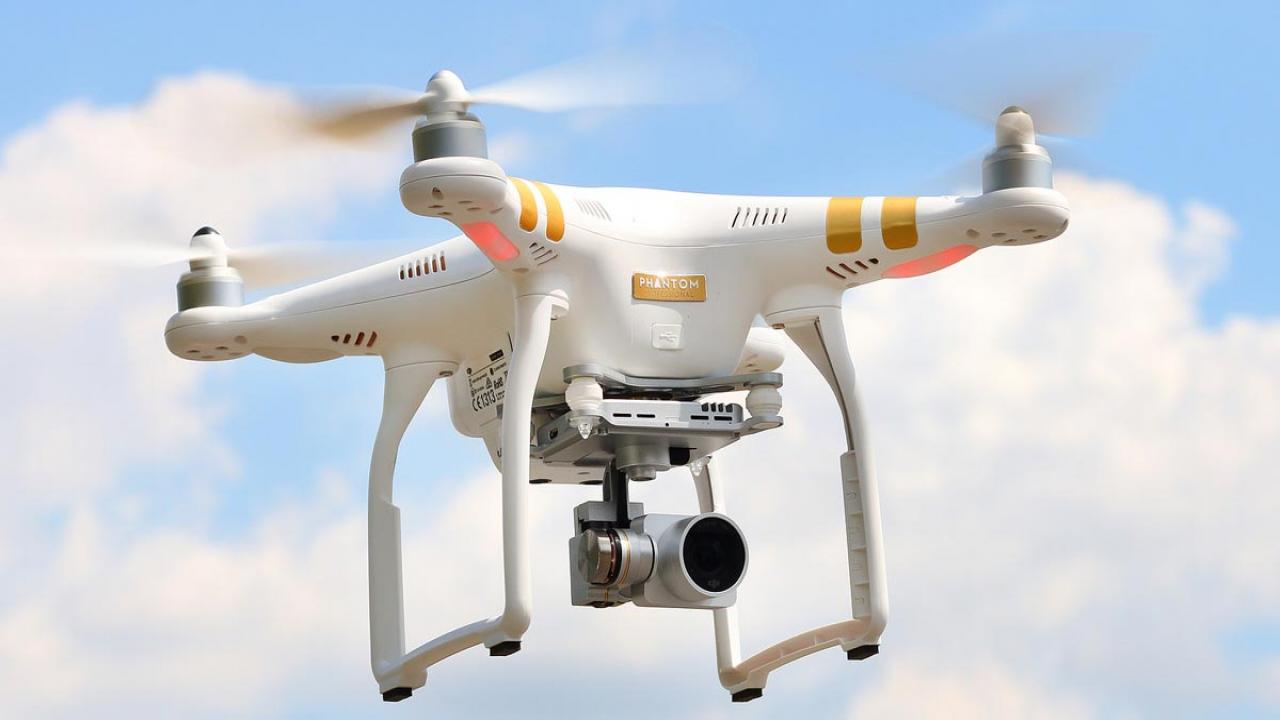Drone: (75, 26, 1115, 711)
